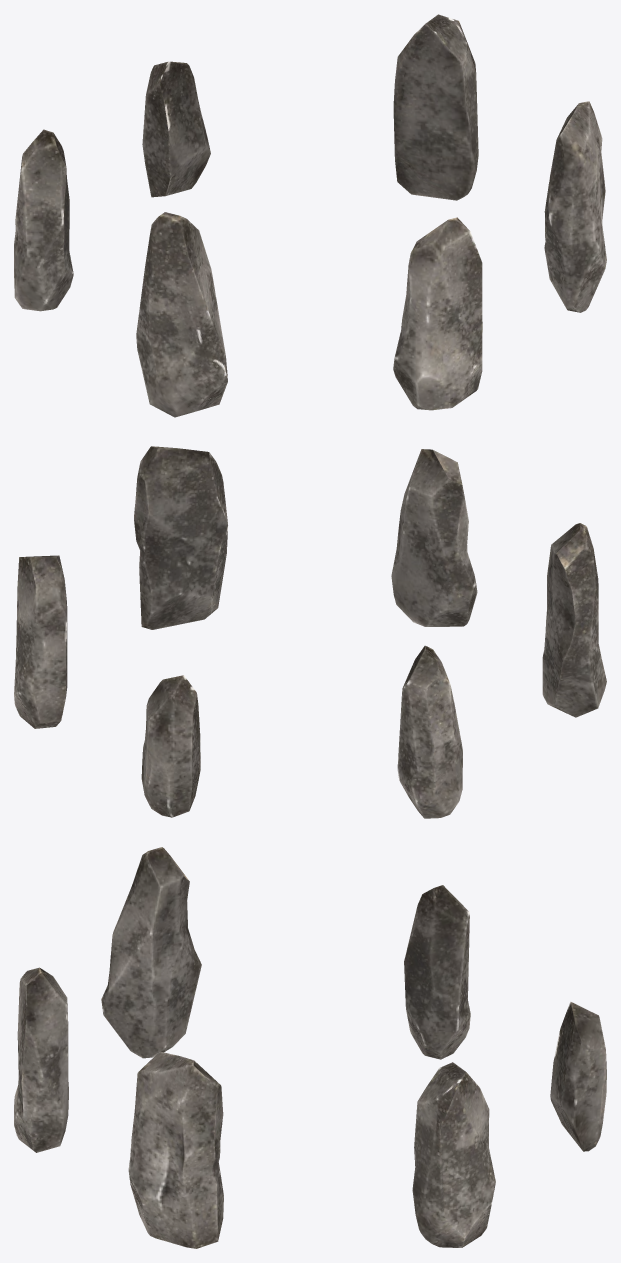
Rendered from Niflheim_Guardian_Stones.glb.
The picture shows the model from 3 angles, top to bottom: view 1: azimuth 30°, elevation 25°; view 2: azimuth 150°, elevation 25°; view 3: azimuth 270°, elevation 25°; orthographic projection. The views are drawn at different scales.
Visible parts, largest first — view 1: portalmonolith_5, portalmonolith_4, portalmonolith_2, portalmonolith_3, portalmonolith_6, portalmonolith; view 2: portalmonolith_3, portalmonolith_4, portalmonolith_5, portalmonolith_6, portalmonolith_2, portalmonolith; view 3: portalmonolith_3, portalmonolith_5, portalmonolith_2, portalmonolith_6, portalmonolith_4, portalmonolith.
Boxes of the visible parts, <box> form: portalmonolith_5: <box>136,212,227,417</box>; portalmonolith_4: <box>393,217,482,410</box>; portalmonolith_2: <box>393,14,478,200</box>; portalmonolith_3: <box>544,101,606,312</box>; portalmonolith_6: <box>14,129,73,311</box>; portalmonolith: <box>142,61,210,197</box>; portalmonolith_3: <box>134,446,227,629</box>; portalmonolith_4: <box>391,449,477,626</box>; portalmonolith_5: <box>542,523,606,717</box>; portalmonolith_6: <box>397,645,462,818</box>; portalmonolith_2: <box>14,555,67,728</box>; portalmonolith: <box>141,675,200,817</box>; portalmonolith_3: <box>128,1051,223,1248</box>; portalmonolith_5: <box>101,847,201,1058</box>; portalmonolith_2: <box>412,1062,495,1247</box>; portalmonolith_6: <box>404,885,470,1059</box>; portalmonolith_4: <box>14,967,68,1152</box>; portalmonolith: <box>550,1001,606,1151</box>.
Bounding box in the file's own units: 2280 × 935 × 2534.
1 material, 1 textured.
